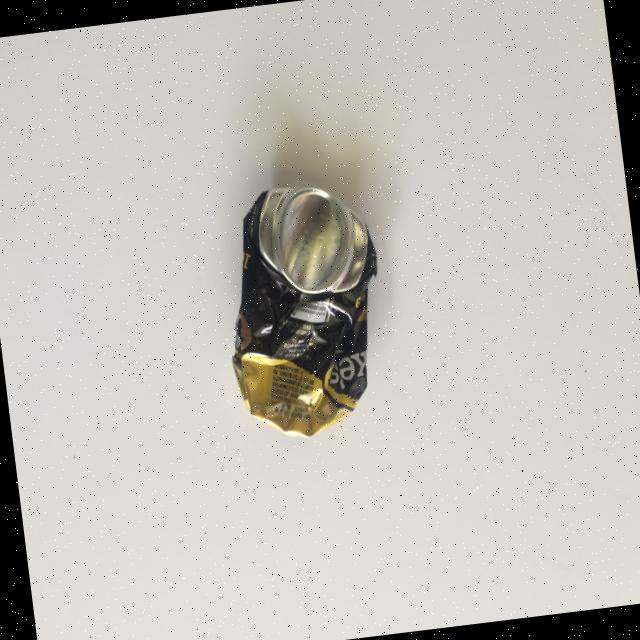metal: (210, 174, 398, 445)
